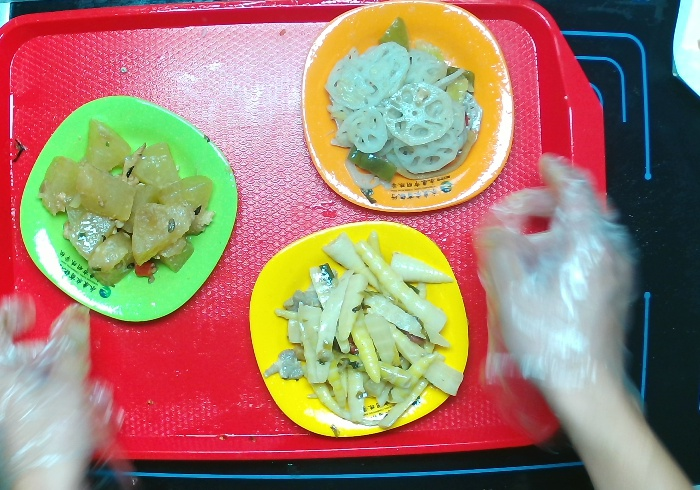YKMZ-Huang_Se_Fang_Die: (248, 220, 473, 439)
YKMZ-Ju_Se_Fang_Die: (297, 5, 519, 216)
YKMZ-Lv_Se_Fang_Die: (18, 97, 243, 324)
